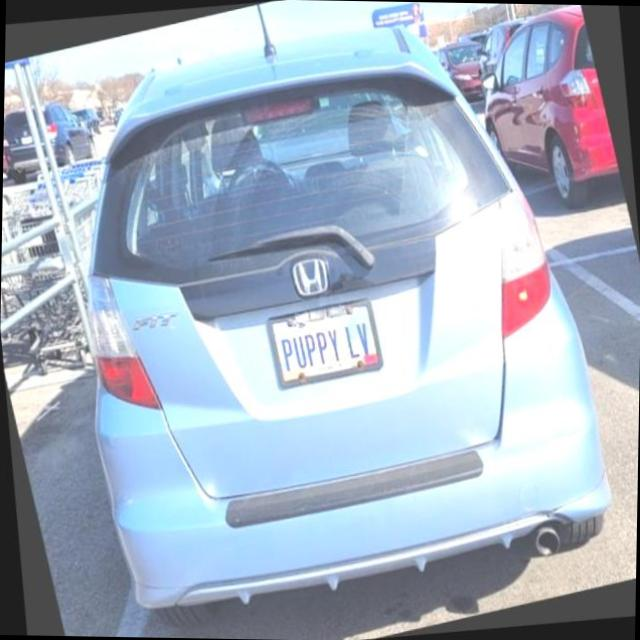LicensePlate: (265, 297, 383, 386)
